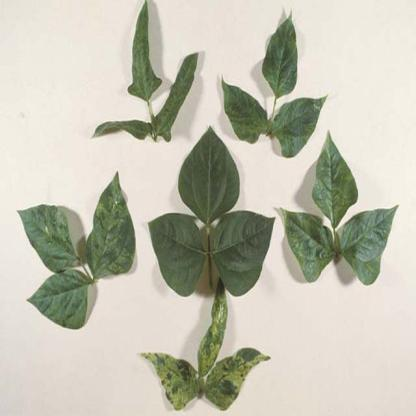soybean leaf: (178, 123, 240, 225), (211, 211, 276, 299), (341, 199, 398, 291), (146, 211, 207, 295), (279, 200, 335, 288), (313, 132, 359, 229)
